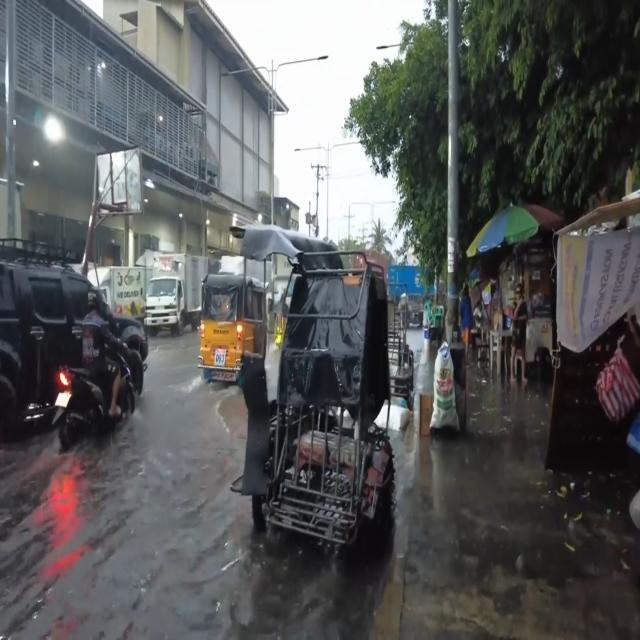half: (86, 286, 107, 316)
